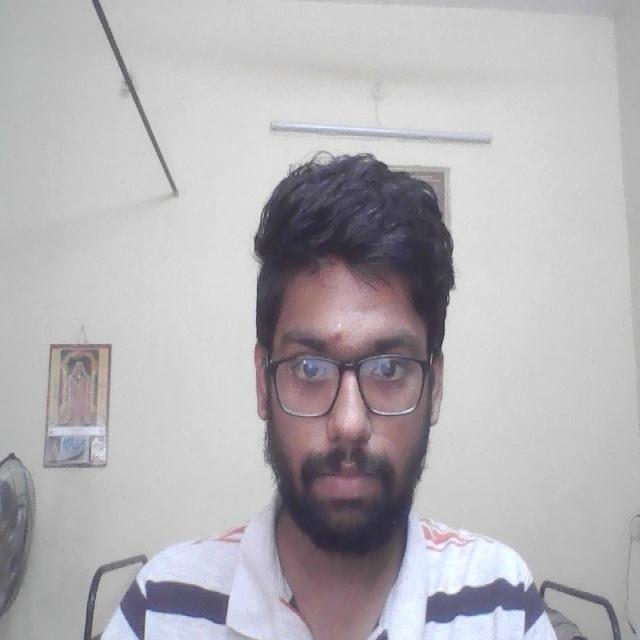Focused: (263, 296, 429, 517)
